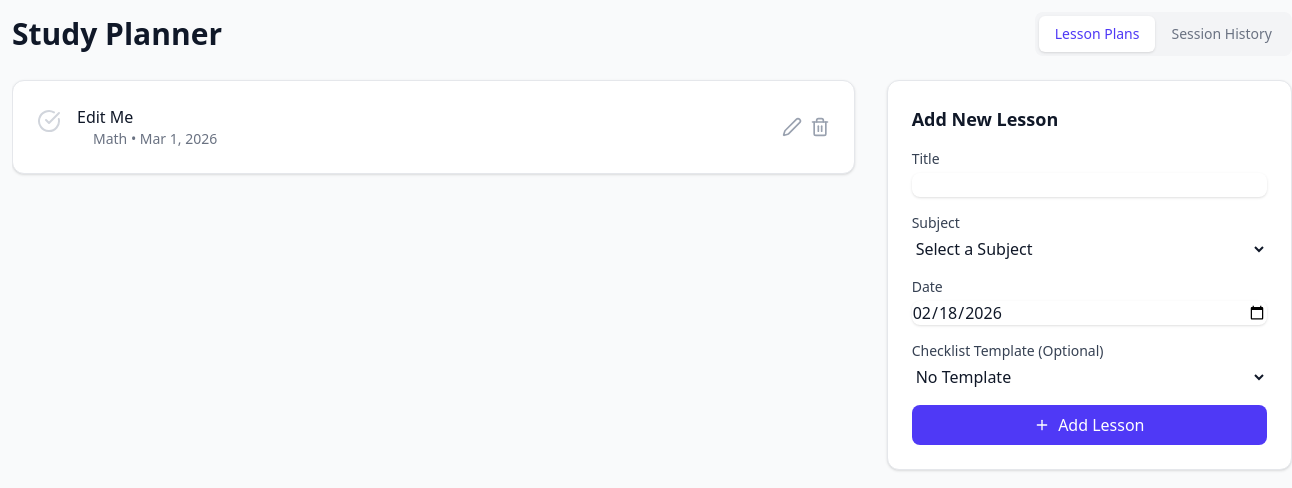
Test case: Planner › starts and cancels editing a lesson
This screenshot has width=1292, height=488.
Expected: the heading "Edit Me" is shown, 77,106 -> 133,128
Click edit button
Click the 4th button at (792,127), box 782,117 -> 802,137
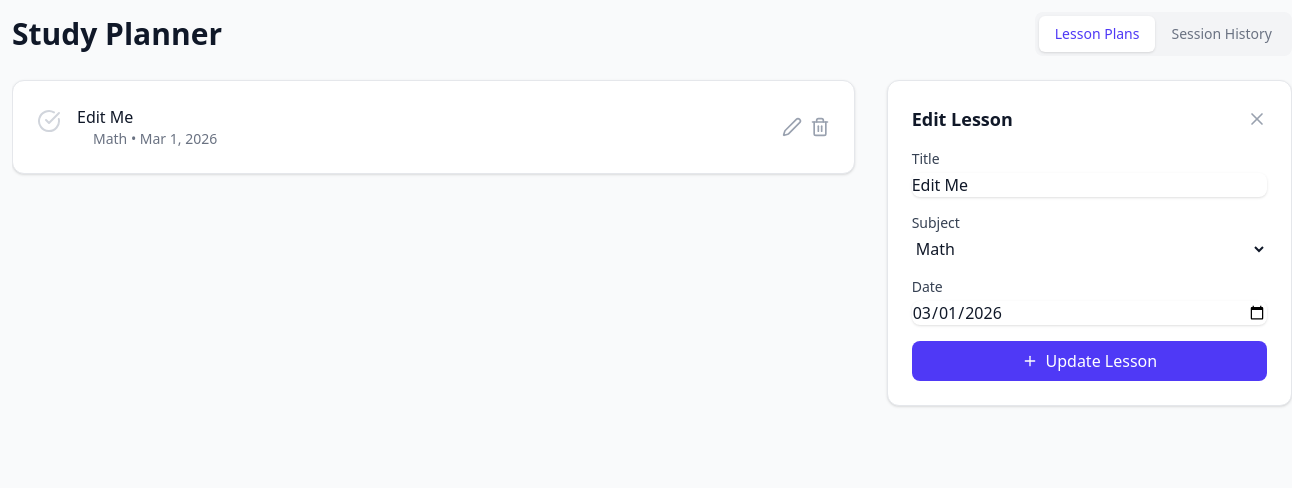
Expected: the heading "Edit Lesson" is shown, 912,105 -> 1013,133
Expected: the button "Update Lesson" is shown, 912,341 -> 1267,381
